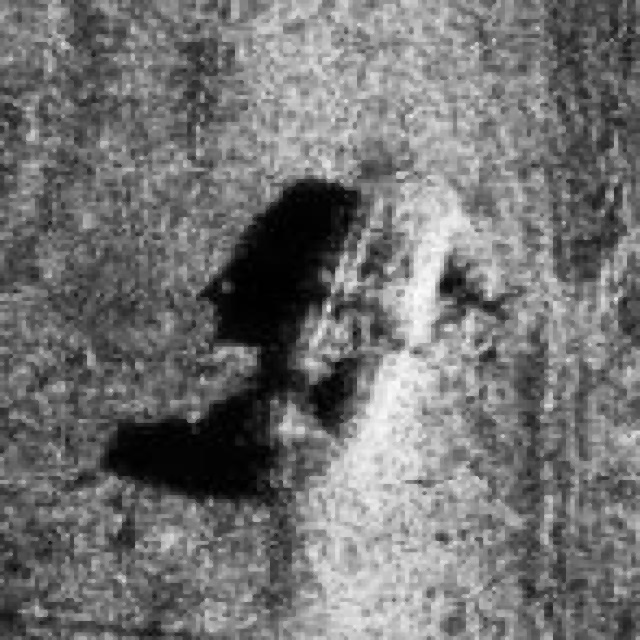Ship: (261, 167, 457, 510)
